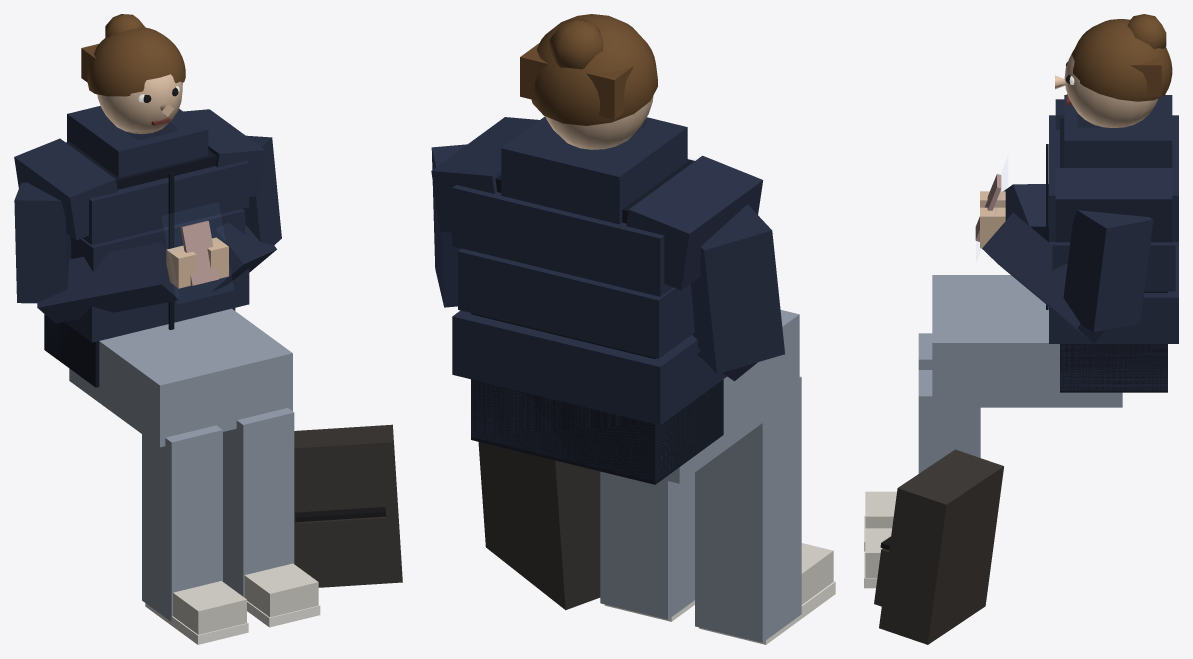
The model's file is passenger_texter_seated.glb.
The picture shows the model from 3 angles, left to right: view 1: azimuth 30°, elevation 25°; view 2: azimuth 150°, elevation 25°; view 3: azimuth 270°, elevation 25°; orthographic projection. The views are drawn at different scales.
Visible parts, largest first — view 1: passenger_texter_seated, Head, Head_Skin, Body_Skin, HabitProp_phone; view 2: passenger_texter_seated, Head, Head_Skin; view 3: passenger_texter_seated, Head, Head_Skin, Body_Skin.
Boxes of the visible parts, box(x1,y1,x2,y2) form: passenger_texter_seated: box(14, 106, 402, 644); Head: box(81, 14, 185, 139); Head_Skin: box(97, 74, 182, 133); Body_Skin: box(166, 237, 228, 288); HabitProp_phone: box(180, 220, 218, 285); passenger_texter_seated: box(431, 116, 835, 644); Head: box(520, 14, 657, 129); Head_Skin: box(545, 96, 653, 149); passenger_texter_seated: box(864, 95, 1178, 644); Head: box(1066, 14, 1172, 126); Head_Skin: box(1055, 50, 1158, 127); Body_Skin: box(980, 191, 1005, 248).
Bounding box in the file's own units: 0.8543 × 1.39 × 0.7275.
